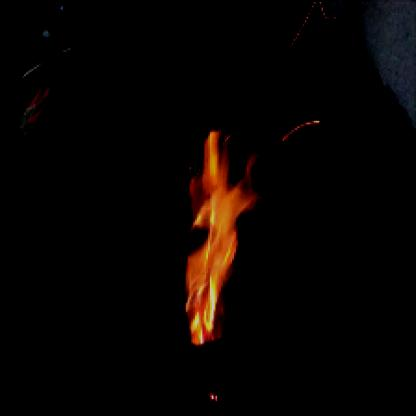Fire: (178, 122, 266, 346)
